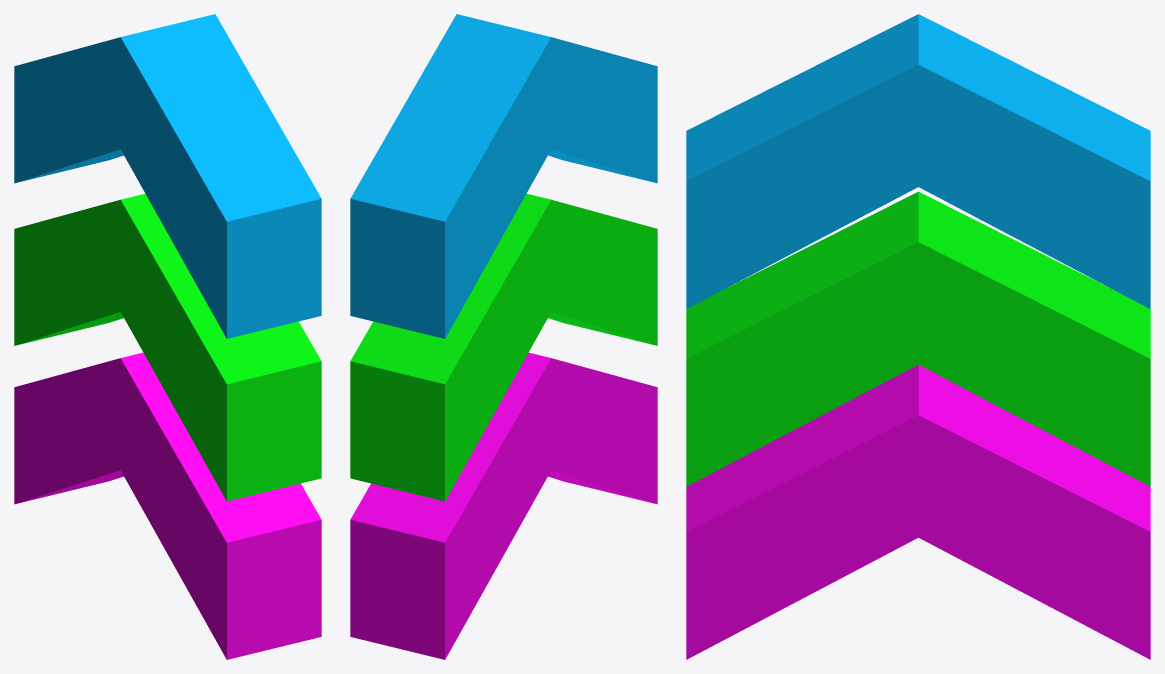
The model's file is DetectionSign_Improver.obj.
The picture shows the model from 3 angles, left to right: view 1: azimuth 30°, elevation 25°; view 2: azimuth 150°, elevation 25°; view 3: azimuth 270°, elevation 25°; orthographic projection. The views are drawn at different scales.
Visible parts, largest first — view 1: Cube_Cube.001, Cube.001_Cube.002, Cube.002_Cube.003; view 2: Cube_Cube.001, Cube.001_Cube.002, Cube.002_Cube.003; view 3: Cube_Cube.001, Cube.001_Cube.002, Cube.002_Cube.003.
Part boxes in pixels (x1,y1,x2,y2): Cube_Cube.001: [14, 14, 321, 338]; Cube.001_Cube.002: [14, 193, 321, 501]; Cube.002_Cube.003: [14, 352, 321, 659]; Cube_Cube.001: [350, 14, 657, 338]; Cube.001_Cube.002: [350, 193, 657, 501]; Cube.002_Cube.003: [350, 352, 657, 659]; Cube_Cube.001: [686, 14, 1150, 308]; Cube.001_Cube.002: [686, 191, 1150, 486]; Cube.002_Cube.003: [686, 364, 1150, 659].
Size of the model in its own units: 2.59 by 14.22 by 10.05.
1 material, 1 textured.
